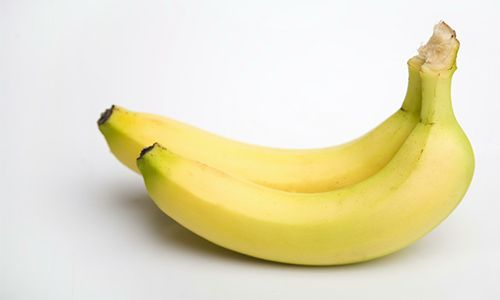fruit_banana: (92, 13, 477, 269)
